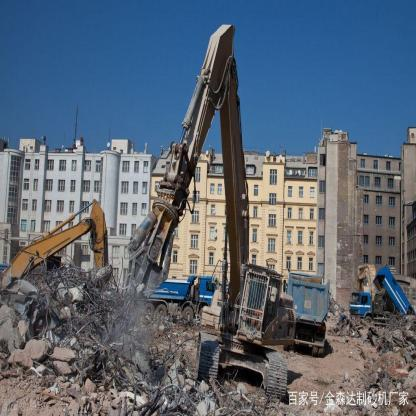rebar: (20, 254, 291, 415), (377, 302, 414, 347)
